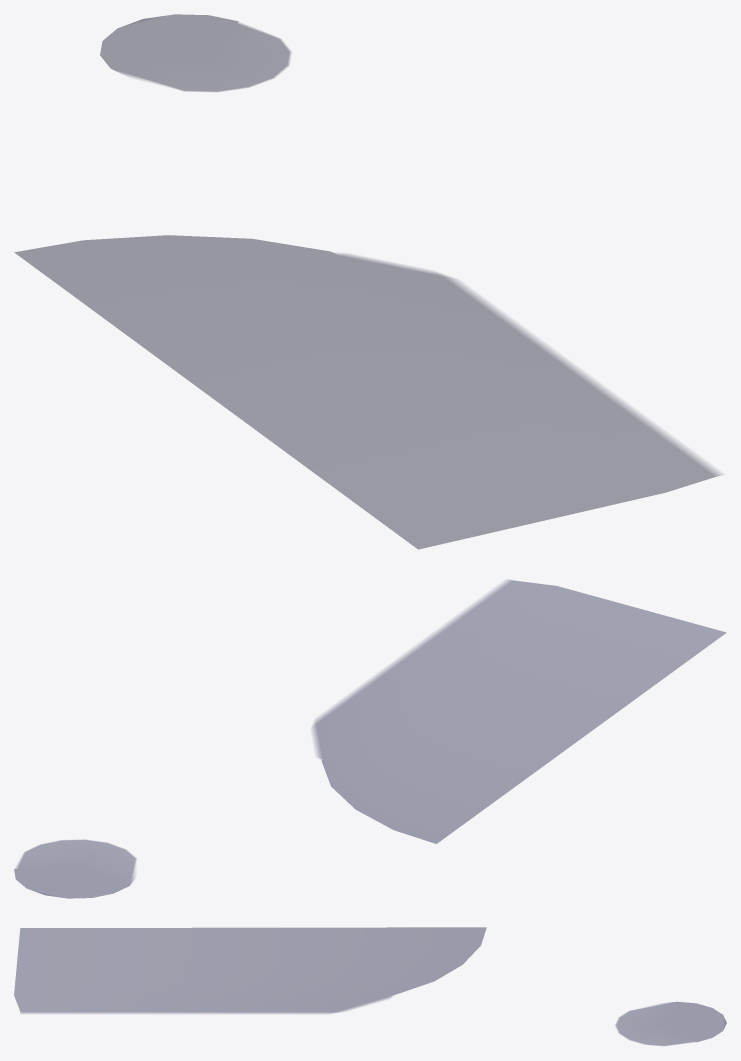
3 views of the same model, one above another, from view 1: azimuth 30°, elevation 25°; view 2: azimuth 150°, elevation 25°; view 3: azimuth 270°, elevation 25° (orthographic). The views are drawn at different scales.
Visible parts, largest first — view 1: Joint_0_Object_0; view 2: Joint_0_Object_0; view 3: Joint_0_Object_0.
Boxes of the visible parts, box(x1,y1,x2,y2) form: Joint_0_Object_0: box(15, 14, 721, 549); Joint_0_Object_0: box(14, 580, 726, 898); Joint_0_Object_0: box(14, 927, 726, 1045).
Size of the model in its own units: 1920 by 8.12 by 4875.
Materials: 1 (1 with a texture image).
